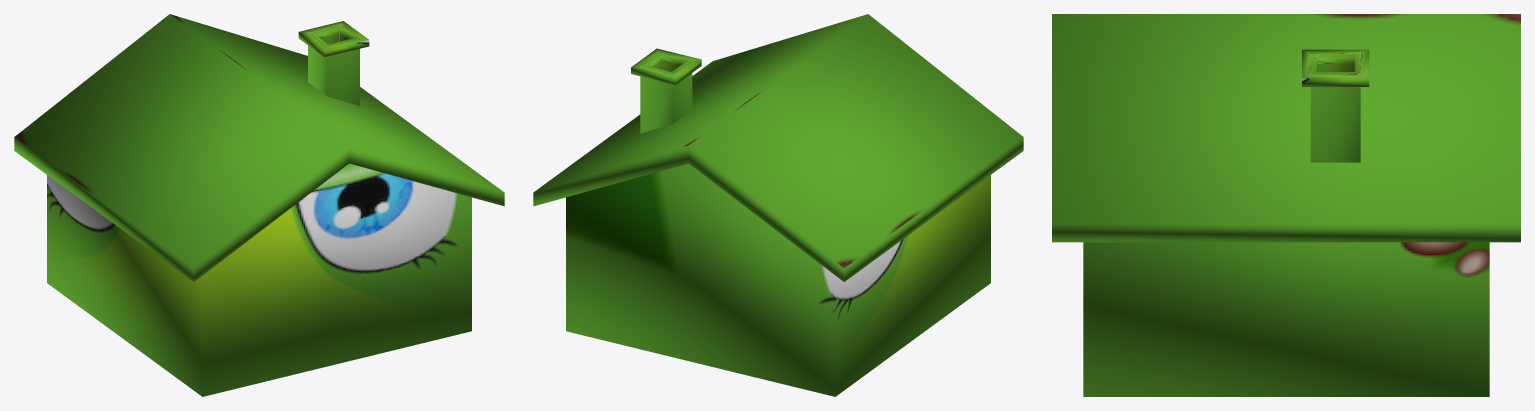
The model's file is turtle-house.gltf.
The picture shows the model from 3 angles, left to right: view 1: azimuth 30°, elevation 25°; view 2: azimuth 150°, elevation 25°; view 3: azimuth 270°, elevation 25°; orthographic projection. The views are drawn at different scales.
Bounding box in the file's own units: 1.44 × 1.04 × 1.44.
Materials: 3 (3 with a texture image).
